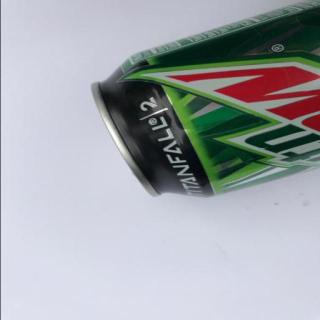Anorganik: (82, 0, 320, 200)
